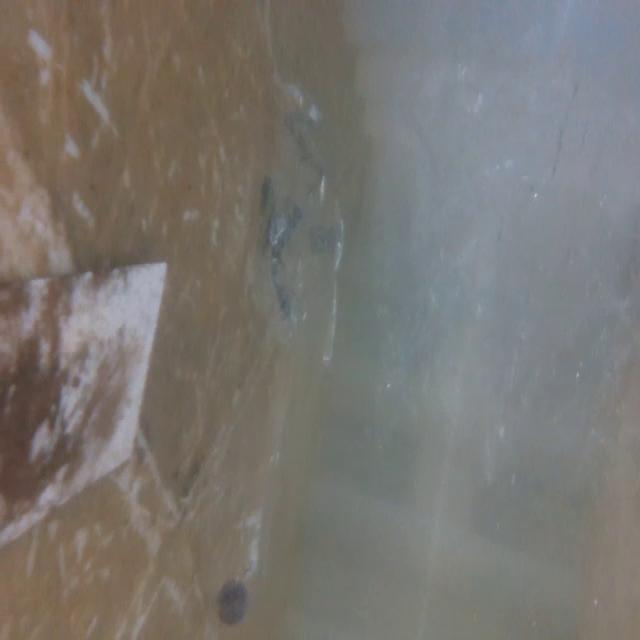metal: (0, 252, 176, 545)
plastic bags: (362, 0, 640, 505), (247, 66, 357, 370)
plastic bottle: (196, 408, 276, 628)
